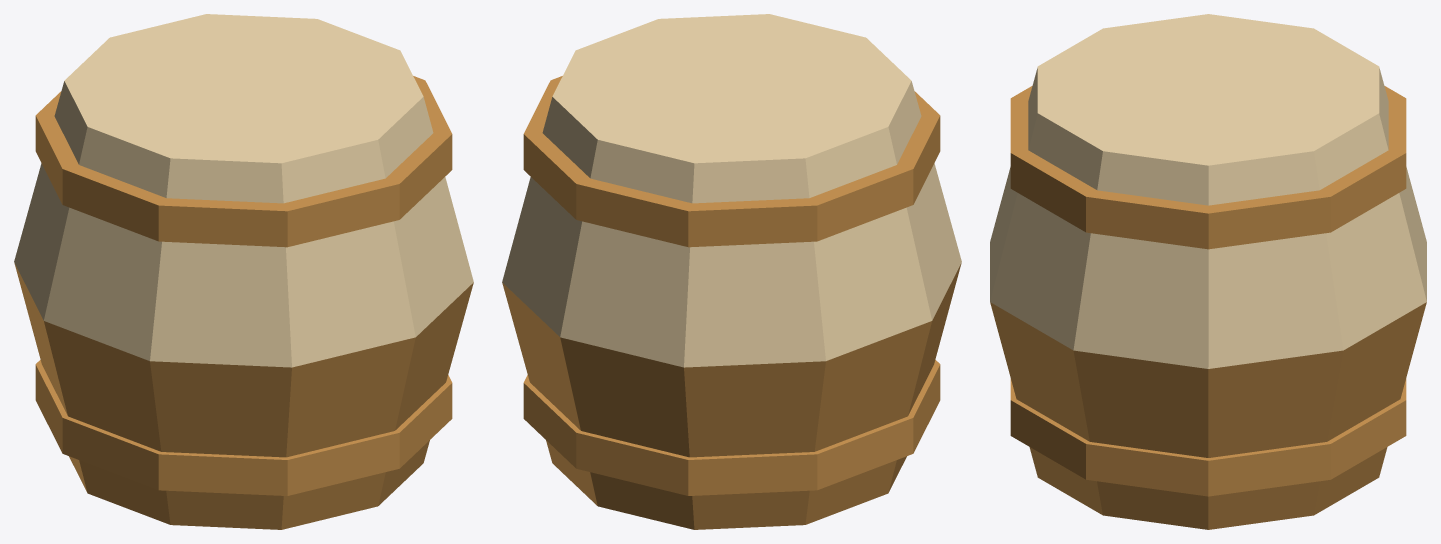
The model's file is Sack.fbx.
3 views of the same model, side by side, from view 1: azimuth 30°, elevation 25°; view 2: azimuth 150°, elevation 25°; view 3: azimuth 270°, elevation 25° (orthographic).
Parts seen in each view (by area): view 1: Sack.005; view 2: Sack.005; view 3: Sack.005.
Boxes of the visible parts, x1,y1,x2,y2 form: Sack.005: (14,14,473,529); Sack.005: (502,14,961,529); Sack.005: (990,14,1426,529).
Bounding box in the file's own units: 64 × 56 × 60.87.
